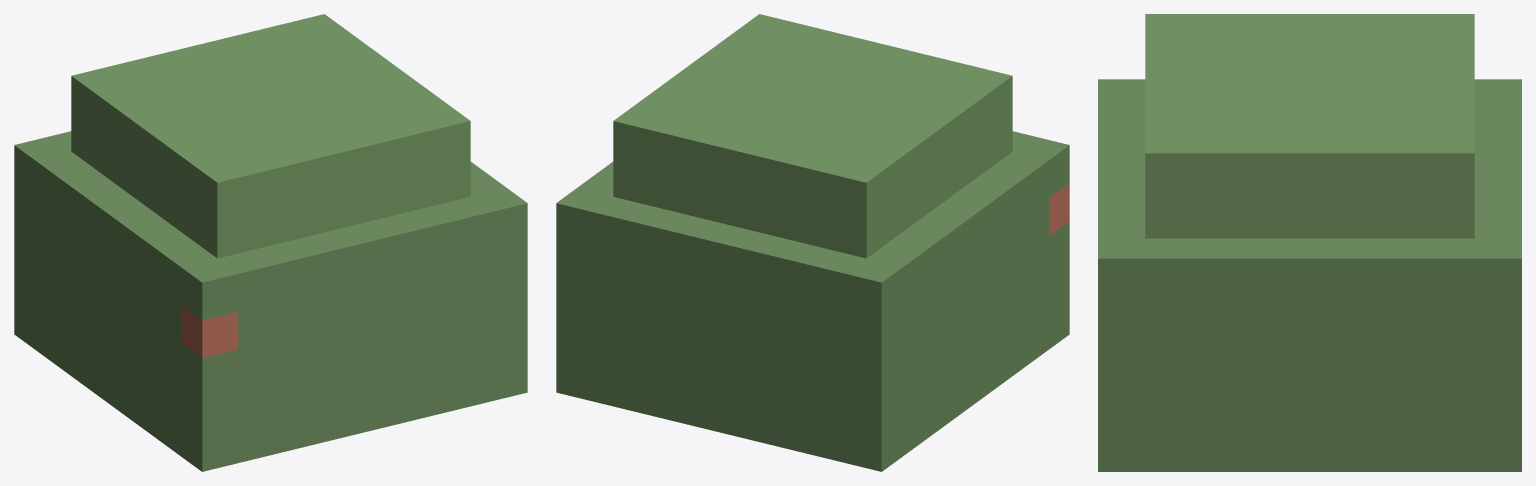
The model's file is escaramujo_01.glb.
3 renders of one model, left to right at view 1: azimuth 30°, elevation 25°; view 2: azimuth 150°, elevation 25°; view 3: azimuth 270°, elevation 25°, orthographic. The views are drawn at different scales.
Visible parts, largest first — view 1: escaramujo_01; view 2: escaramujo_01; view 3: escaramujo_01.
Boxes of the visible parts, left/top/right/bottom form: escaramujo_01: left=14, top=14, right=527, bottom=471; escaramujo_01: left=556, top=14, right=1069, bottom=471; escaramujo_01: left=1098, top=14, right=1521, bottom=471.
Size of the model in its own units: 0.9 by 0.7 by 0.9.
